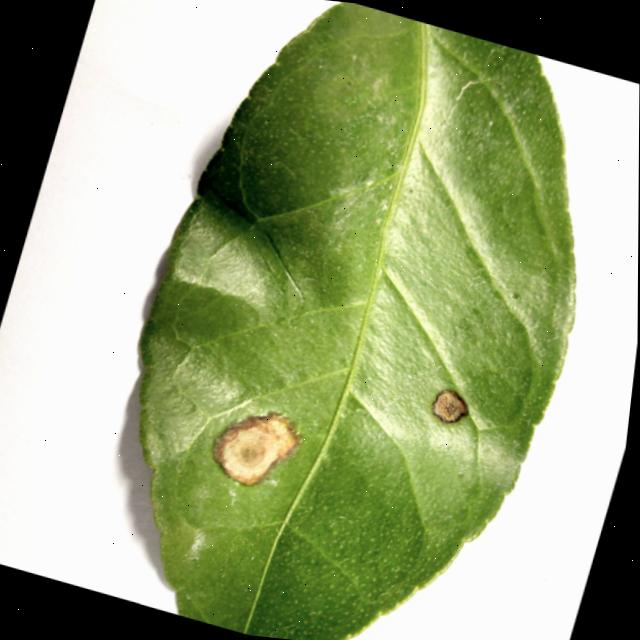antracnose: (140, 1, 575, 640), (213, 413, 298, 484), (433, 390, 467, 421)
